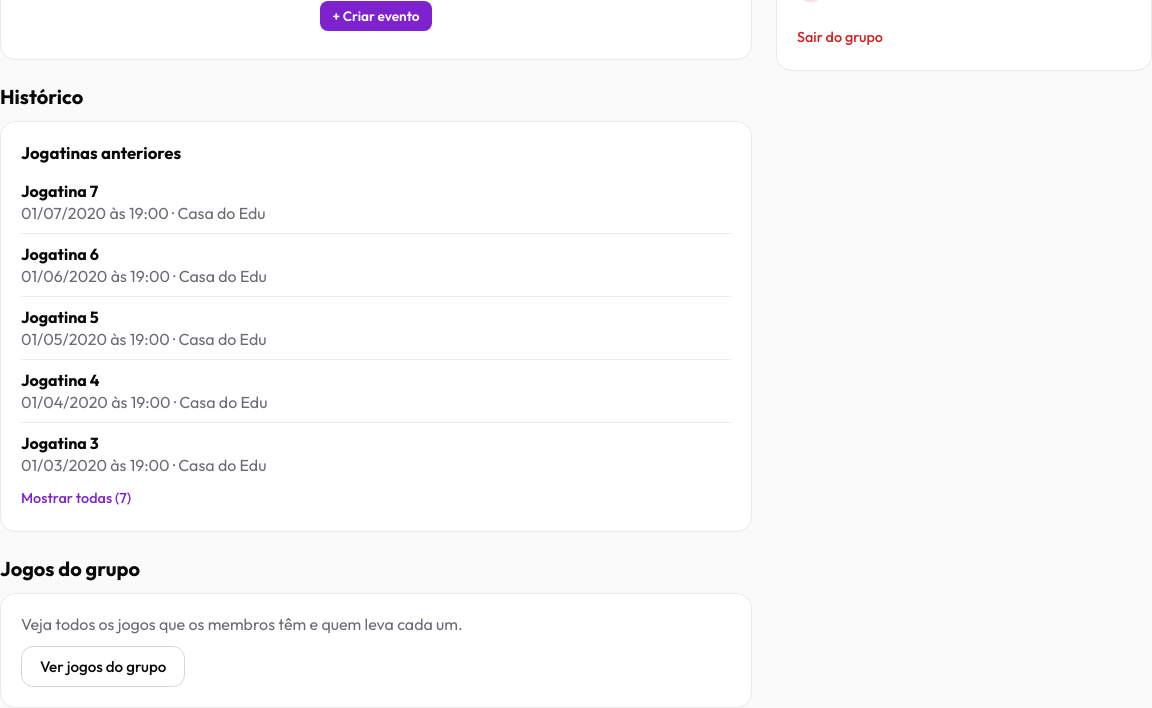
Scenario: Grupo — histórico › mostra as 5 mais recentes e libera o resto em "Mostrar todas"
(page scrolled)
Expected: the text "Jogatina 1" is not shown
Expected: the text "Jogatina 7" is shown, x1=21 y1=181 x2=98 y2=201
Click the button "Mostrar todas (7)".
click(76, 498)  # box x1=21 y1=485 x2=131 y2=511
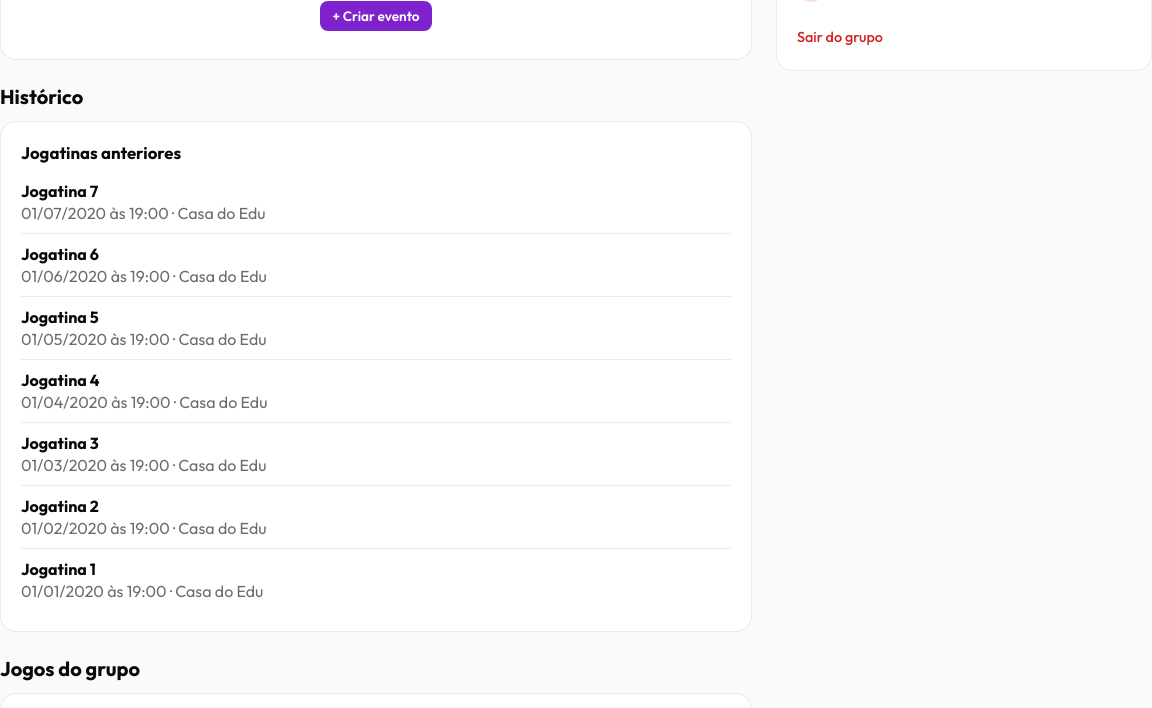
Now the text "Jogatina 1" is shown, box x1=21 y1=559 x2=96 y2=579
Now the button "Mostrar todas" is gone
